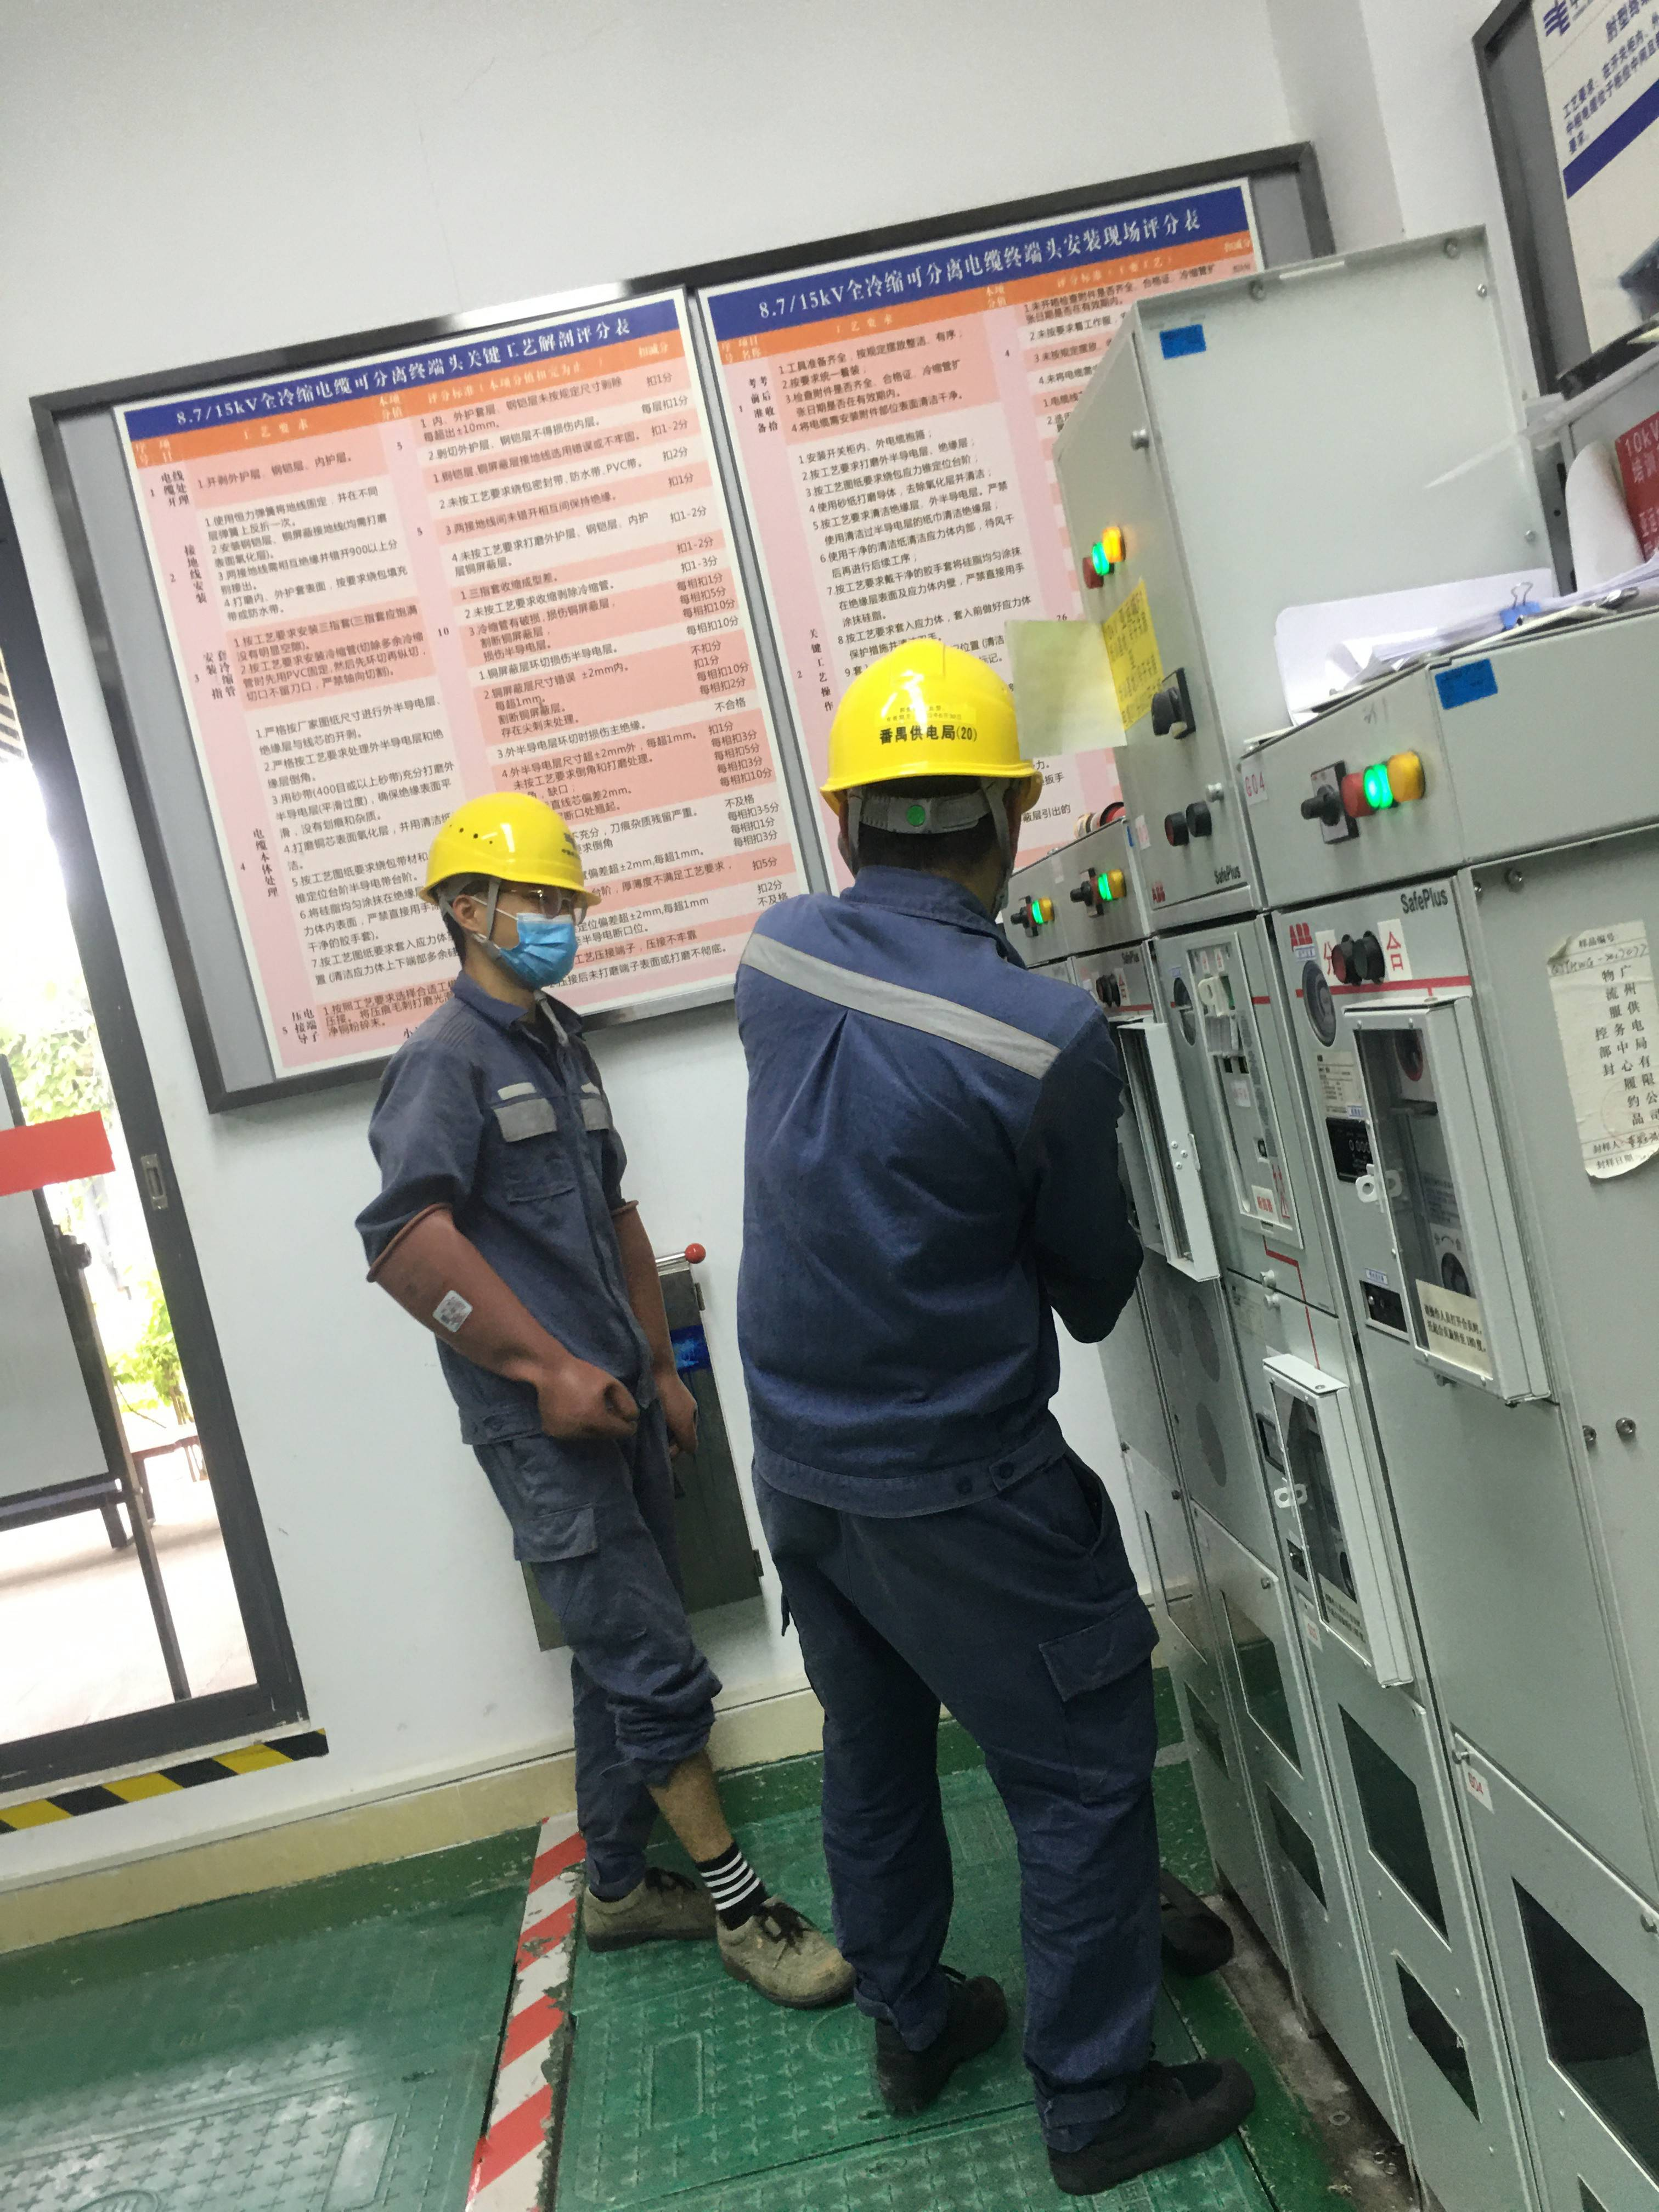downsuit: (774, 1503, 1171, 2095), (471, 1421, 728, 1885)
upsuit: (734, 885, 1131, 1491), (368, 982, 650, 1416)
wrongbottom: (627, 1723, 741, 1883)
